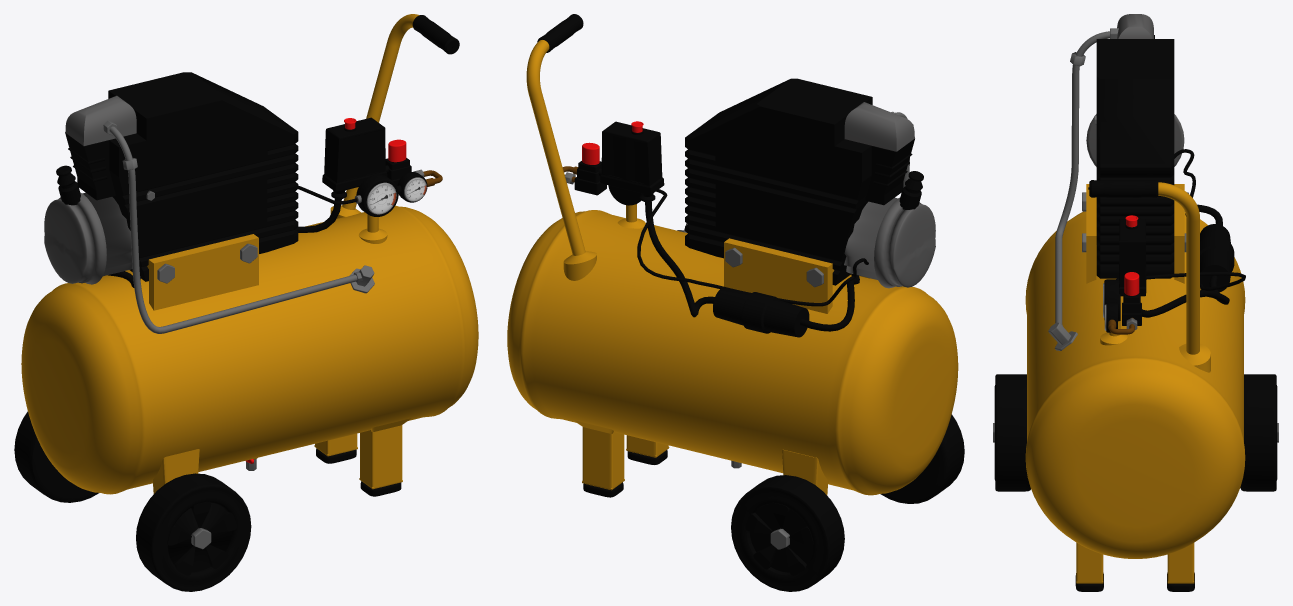
Rendered from 空压机成品.glb.
3 views of the same model, side by side, from view 1: azimuth 30°, elevation 25°; view 2: azimuth 150°, elevation 25°; view 3: azimuth 270°, elevation 25° (orthographic). The views are drawn at different scales.
Parts seen in each view (by area): view 1: 金色机身.002; view 2: 金色机身.002; view 3: 金色机身.002.
Boxes of the visible parts, box(x1,y1,x2,y2) form: 金色机身.002: box(14, 14, 478, 591); 金色机身.002: box(507, 14, 964, 591); 金色机身.002: box(993, 14, 1278, 591).
Bounding box in the file's own units: 0.7484 × 0.8308 × 0.4749.
8 materials, 1 textured.
